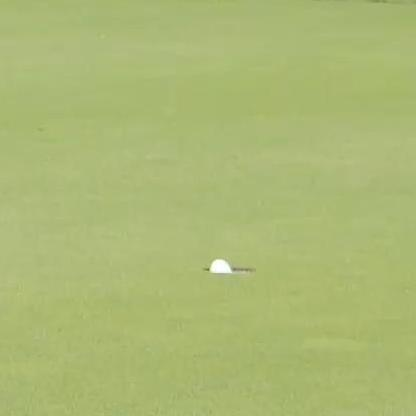golfball: (207, 255, 230, 273)
